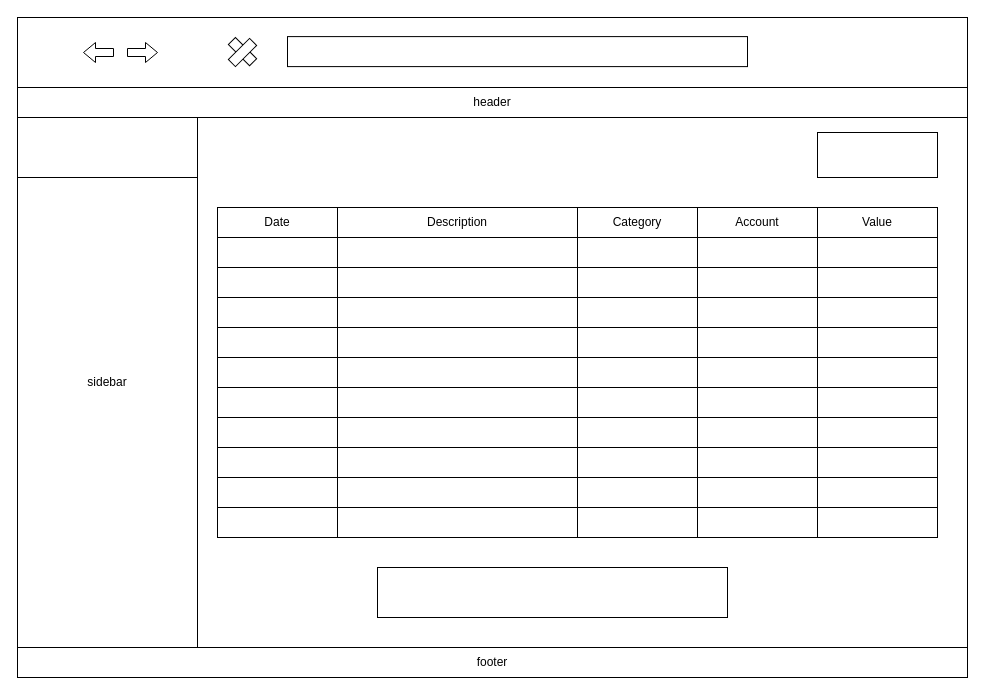
The diagram is 985 pixels wide and 695 high, and some of its shapes have lost their labels. The centre of each missing label's shape, as x and y in pixels:
"Expenses" belongs at (107,147).
"New" belongs at (877,155).
"See more" belongs at (552,592).
